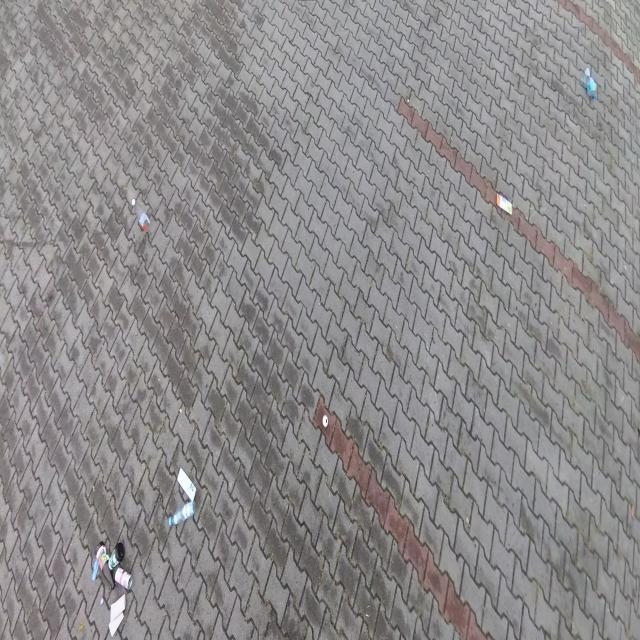rubbish: (94, 543, 116, 590), (131, 198, 152, 234), (169, 500, 195, 528), (177, 469, 197, 504), (579, 68, 597, 99), (114, 568, 132, 592), (110, 593, 125, 621), (108, 543, 124, 569), (108, 613, 125, 637), (496, 193, 513, 215), (91, 558, 98, 582), (322, 416, 328, 428), (100, 598, 104, 605)
